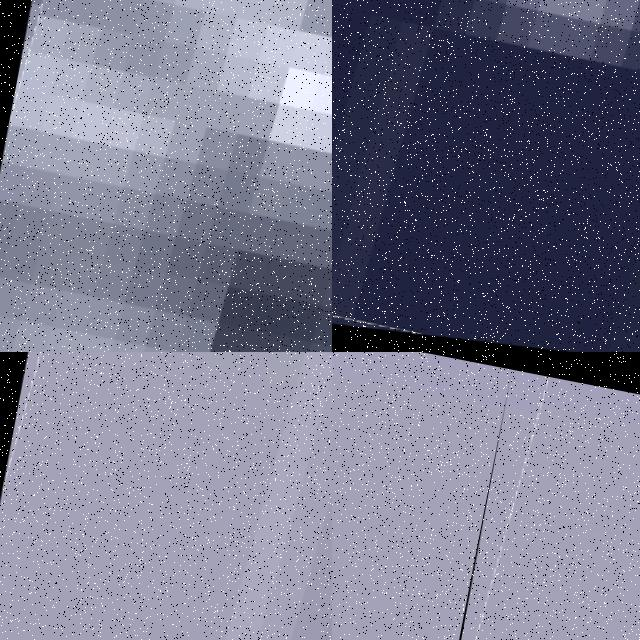drone: (0, 0, 332, 352), (332, 0, 640, 352), (0, 352, 332, 640), (396, 370, 640, 640)
